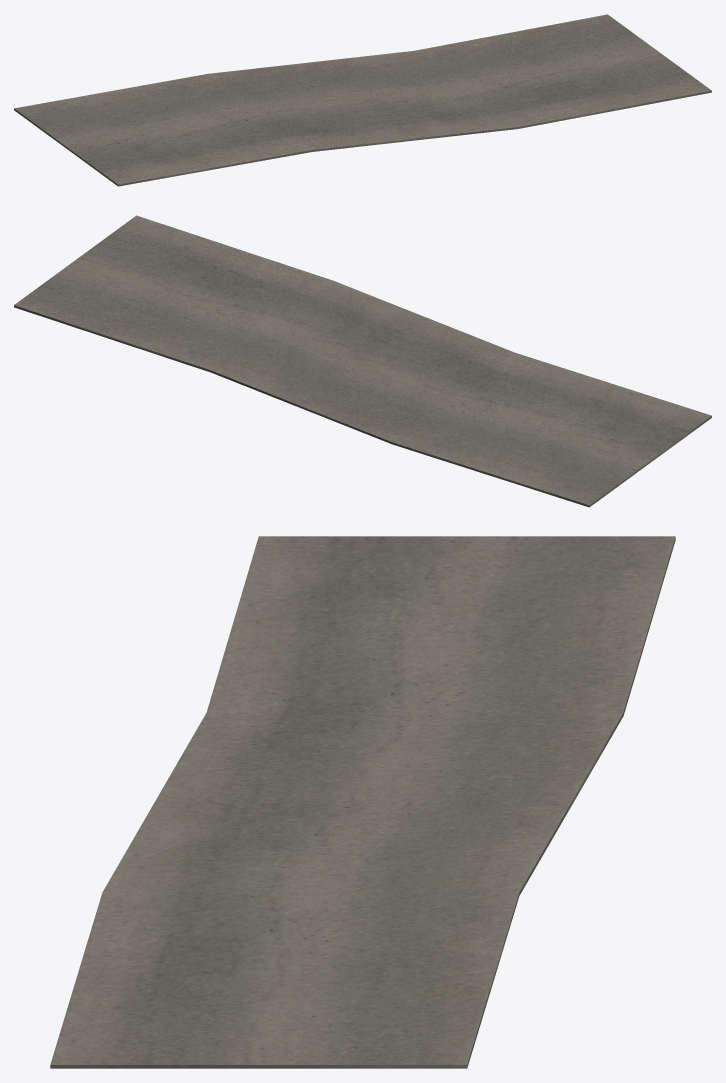
The model's file is Urban_Road3SheerNoSides_Model.fbx.
The picture shows the model from 3 angles, top to bottom: view 1: azimuth 30°, elevation 25°; view 2: azimuth 150°, elevation 25°; view 3: azimuth 270°, elevation 25°; orthographic projection. The views are drawn at different scales.
Parts seen in each view (by area): view 1: Urban_Road3SheerNoSides_Mesh; view 2: Urban_Road3SheerNoSides_Mesh; view 3: Urban_Road3SheerNoSides_Mesh.
Boxes of the visible parts, left/top/right/bottom form: Urban_Road3SheerNoSides_Mesh: left=14, top=14, right=711, bottom=186; Urban_Road3SheerNoSides_Mesh: left=14, top=215, right=711, bottom=507; Urban_Road3SheerNoSides_Mesh: left=50, top=536, right=675, bottom=1068.
Bounding box in the file's own units: 48 × 0.32 × 24.
